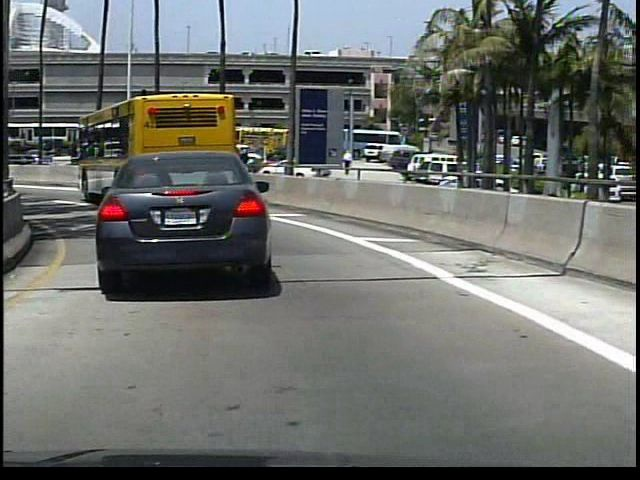person: (339, 148, 354, 179), (240, 147, 252, 179)
